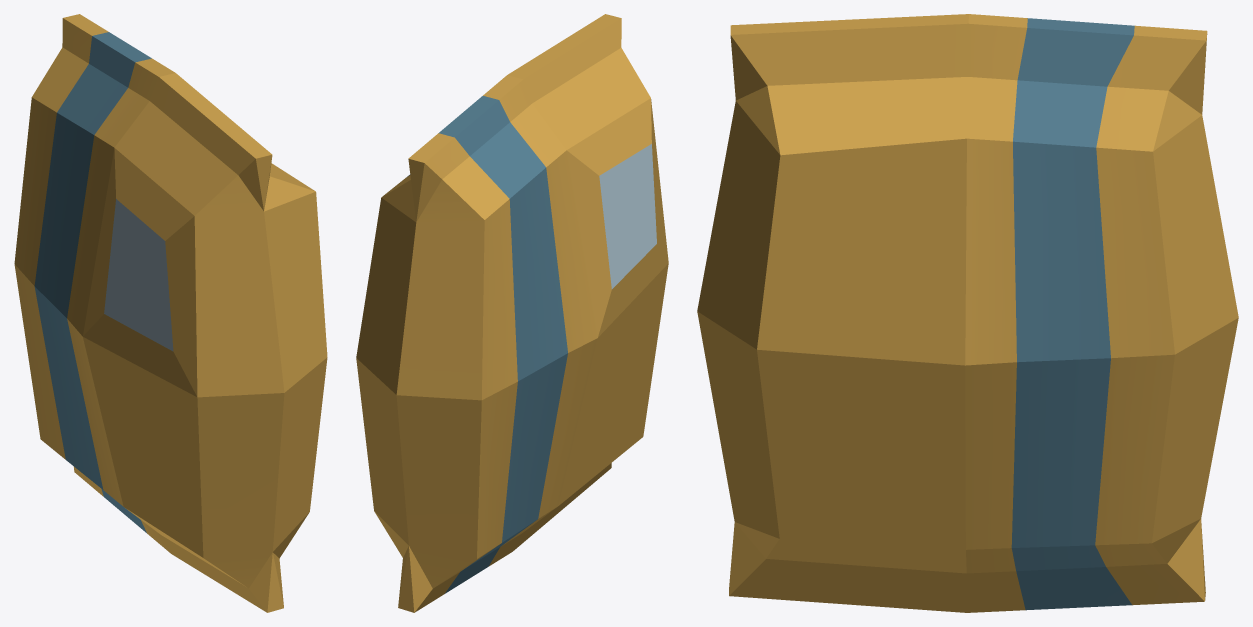
The picture shows the model from 3 angles, left to right: view 1: azimuth 30°, elevation 25°; view 2: azimuth 150°, elevation 25°; view 3: azimuth 270°, elevation 25°; orthographic projection. The views are drawn at different scales.
Visible parts, largest first — view 1: SM_Prop_Snack_04_0; view 2: SM_Prop_Snack_04_0; view 3: SM_Prop_Snack_04_0.
Boxes of the visible parts, bbox=[...] form: SM_Prop_Snack_04_0: bbox=[14, 14, 327, 612]; SM_Prop_Snack_04_0: bbox=[356, 14, 668, 612]; SM_Prop_Snack_04_0: bbox=[697, 14, 1238, 612].
Bounding box in the file's own units: 0.0767 × 0.1932 × 0.1626.
Materials: 1 (1 with a texture image).
